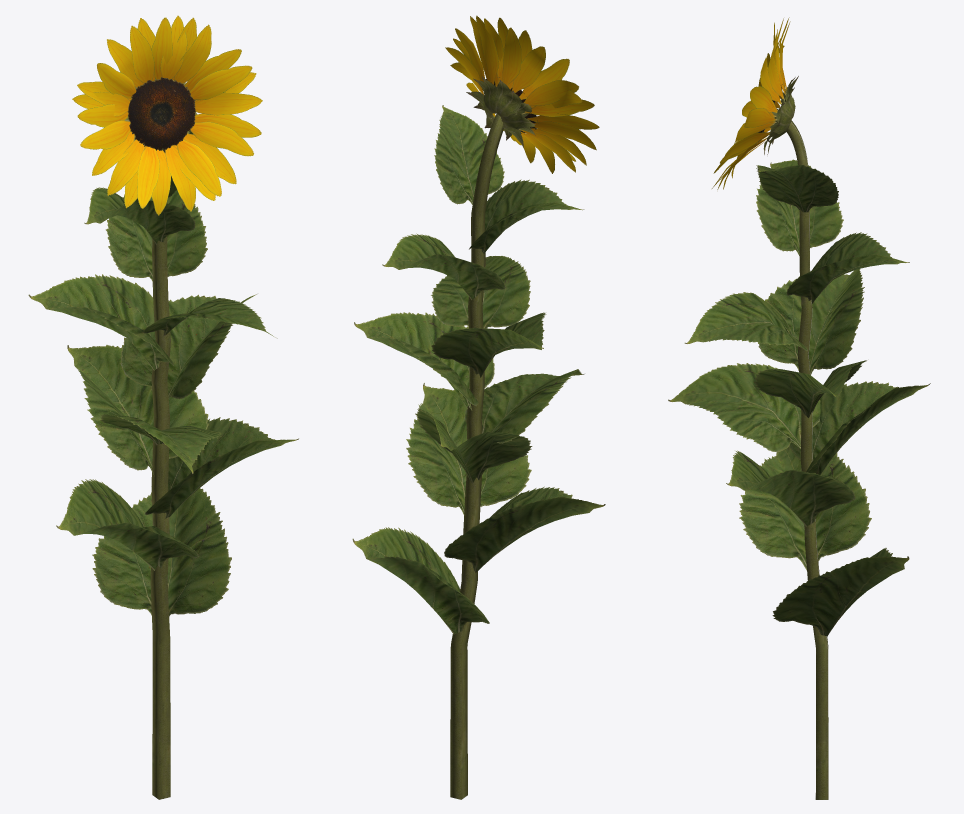
File: HelianthusAnnuus.glb
The picture shows the model from 3 angles, left to right: view 1: azimuth 30°, elevation 25°; view 2: azimuth 150°, elevation 25°; view 3: azimuth 270°, elevation 25°; orthographic projection. The views are drawn at different scales.
Parts seen in each view (by area): view 1: Sunflower__Realistic_LOD3; view 2: Sunflower__Realistic_LOD3; view 3: Sunflower__Realistic_LOD3.
Boxes of the visible parts, <box> form: Sunflower__Realistic_LOD3: <box>28,15,298,799</box>; Sunflower__Realistic_LOD3: <box>352,15,605,799</box>; Sunflower__Realistic_LOD3: <box>668,17,930,799</box>.
Bounding box in the file's own units: 0.8118 × 2.32 × 0.808.
1 material, 1 textured.
